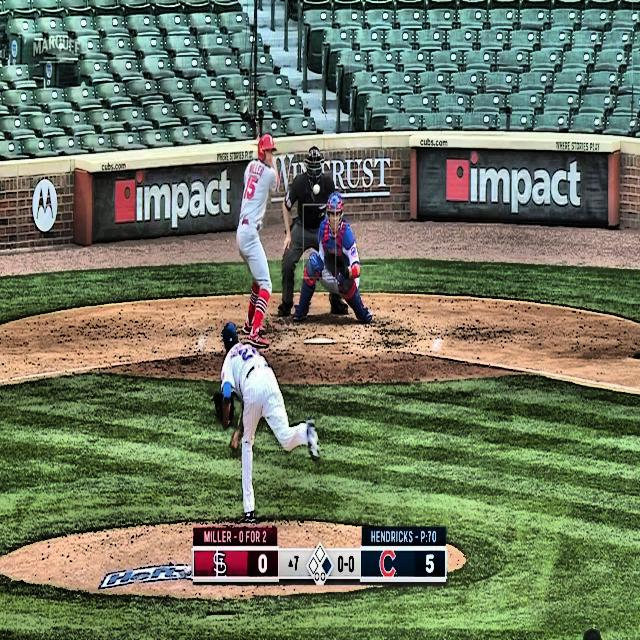baseball: (312, 183, 321, 197)
